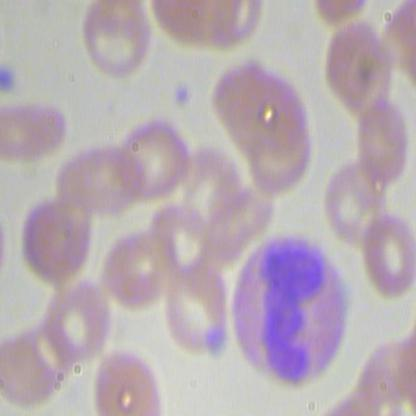Platelets: (171, 77, 194, 109)
RBC: (321, 19, 398, 121), (119, 116, 198, 200), (42, 281, 121, 365), (161, 266, 235, 355), (75, 1, 154, 84), (1, 93, 77, 165), (356, 210, 415, 301), (90, 347, 165, 415), (356, 96, 413, 180)
WBC: (224, 229, 359, 387)
